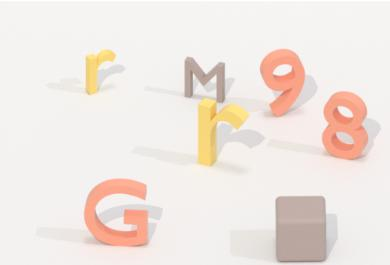0-KhoiVuong: (269, 192, 331, 263)
8: (317, 86, 372, 162)
9: (257, 45, 309, 121)
G: (78, 174, 154, 251)
M: (180, 52, 229, 106)
r: (192, 94, 252, 171), (82, 45, 120, 98)
